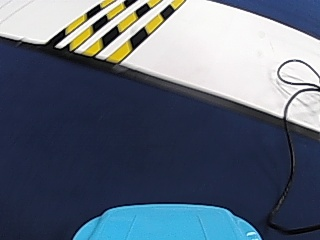bump: (48, 5, 156, 58)
